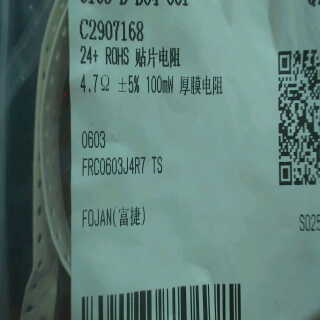4.7R: (76, 69, 118, 106)
